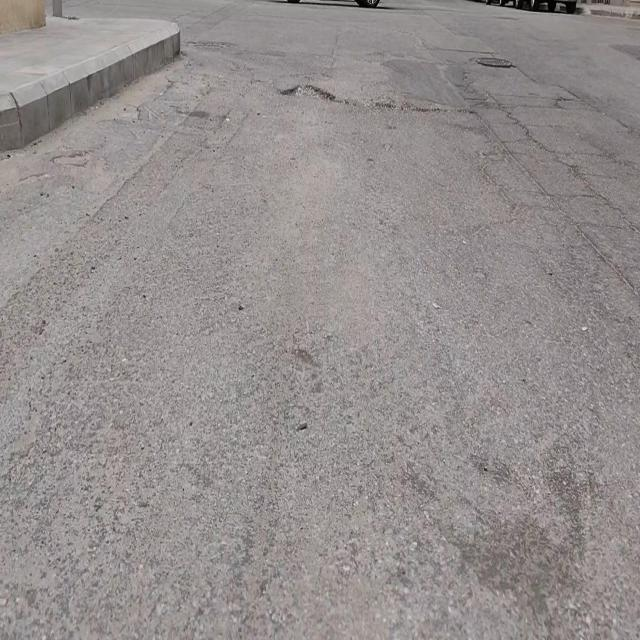Pothole: (279, 83, 336, 101)
